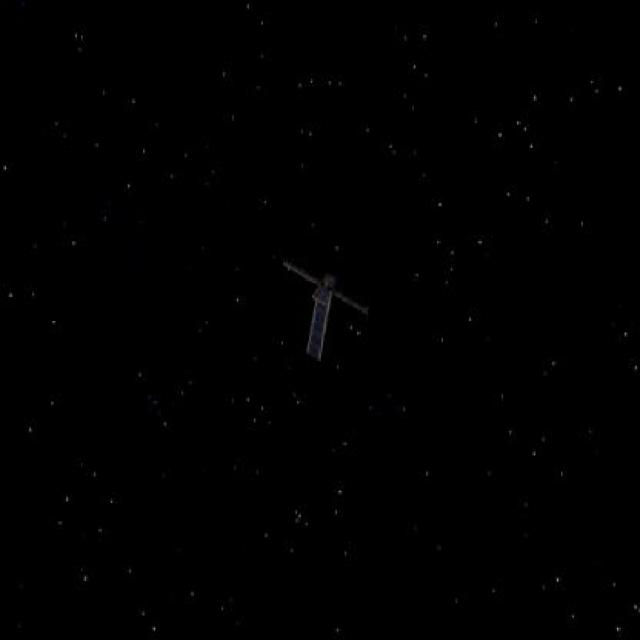satellite: (281, 244, 379, 369)
